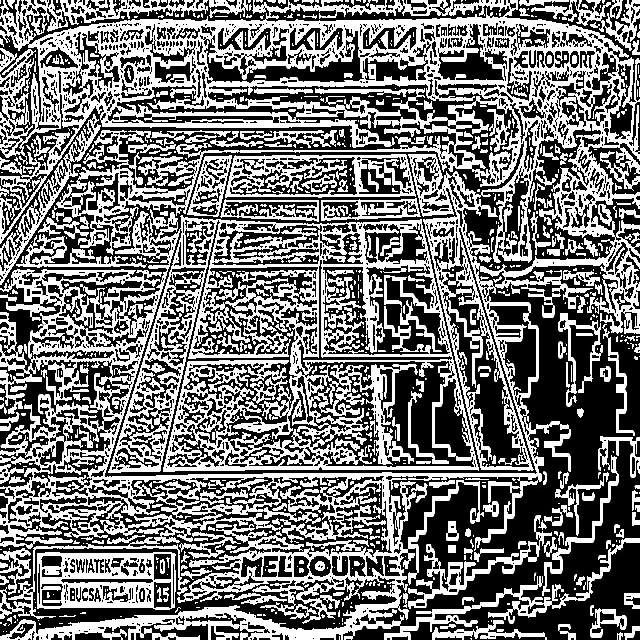left side: (105, 152, 234, 475), (407, 151, 536, 471)
player: (286, 322, 314, 432), (423, 154, 468, 208)
